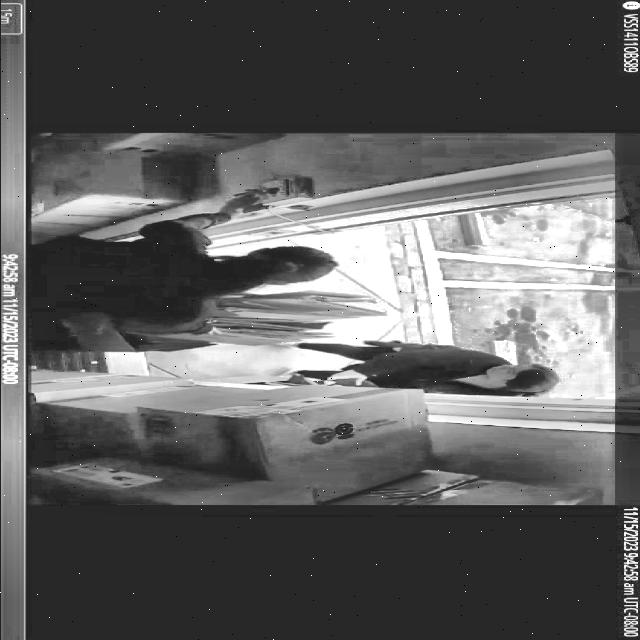gloved: (322, 362, 370, 387)
